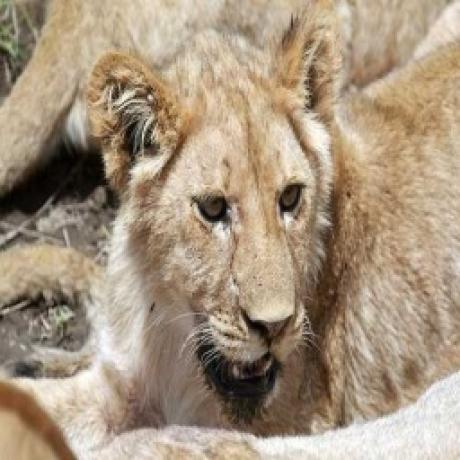Lion: (0, 11, 460, 460)
